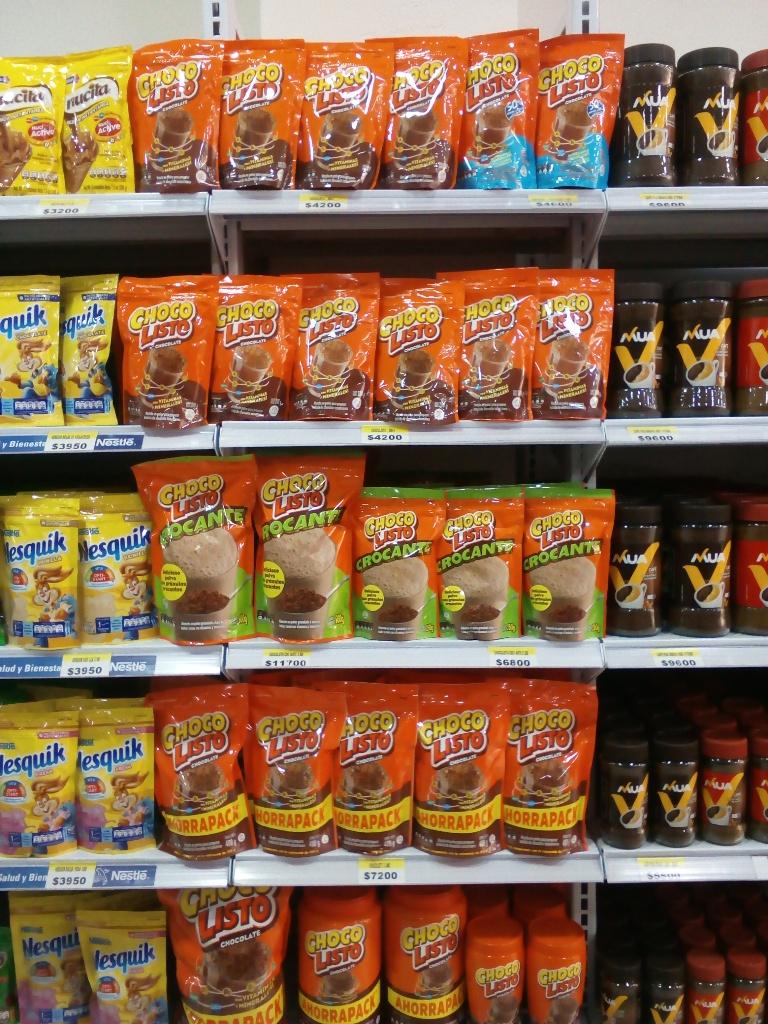COL0170102DYP25000: (524, 485, 609, 640)
COL0170102DYP50000: (252, 453, 366, 644)
COL0170103DYP1,500: (159, 884, 292, 1024)
COL0170103DYP20000: (380, 37, 467, 191)
COL0170103DYP40000: (502, 678, 596, 855)
COL0170103TRR00100: (382, 885, 470, 1024)
COL0170103TRR30000: (528, 917, 591, 1024)
COL0170104DYP20000: (539, 31, 623, 191)
COL0170303DYP20000: (57, 275, 120, 426)
COL0170305DYP20000: (75, 709, 160, 855)
COL0170306DYP20000: (79, 495, 161, 644)
